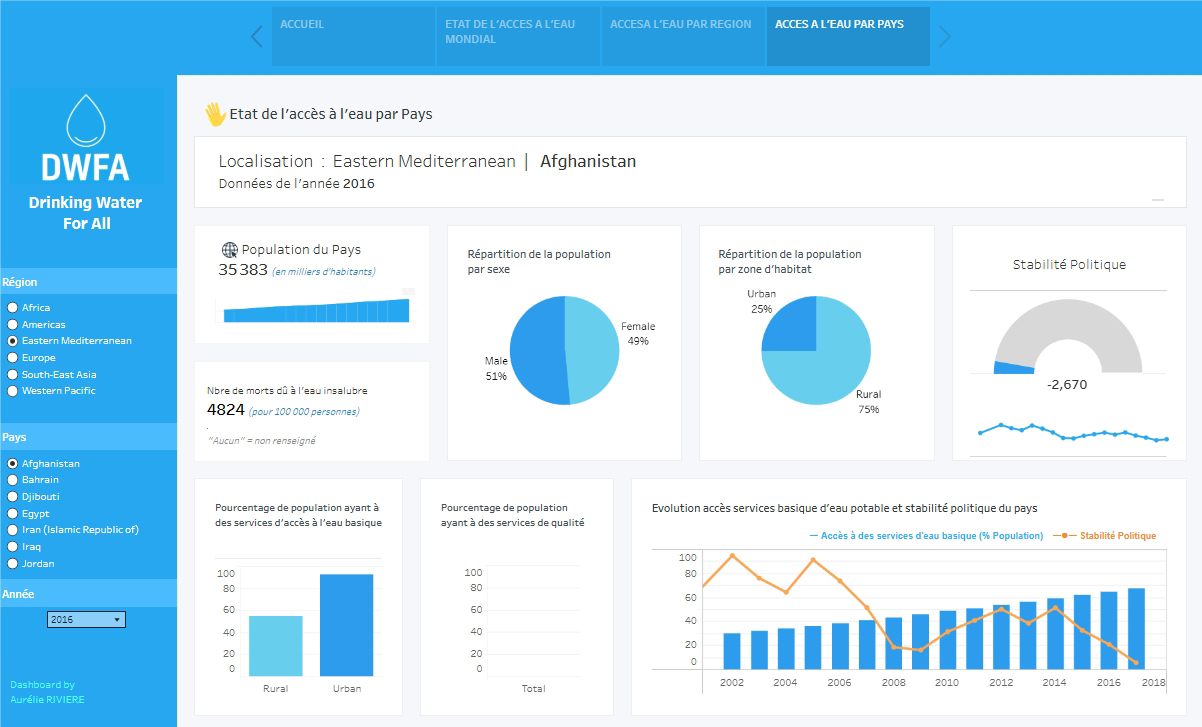

Layout of this report page (visuals, bound fields, positions):
{"tool":"tableau","page":{"name":"VuePays","canvas":[1650,1000],"ordinal":3},"visuals":[{"type":"image","param":"C:/Users/Aurelie 01Formatic/Desktop/logo.png","box":[0,10,250,128]},{"type":"image","param":"C:/Users/Aurelie 01Formatic/Dropbox/Formation Data Analyst/PROJET 10 - Faites un","box":[281,31,32,33]},{"type":"text","box":[313,31,1306,33]},{"type":"worksheet","title":"InfosPays","mark":"Automatic","box":[292,79,1316,76]},{"type":"text","box":[0,138,250,70]},{"type":"worksheet","title":"PopPays","mark":"Automatic","box":[292,201,283,81]},{"type":"text","box":[637,201,283,56]},{"type":"text","box":[980,201,284,56]},{"type":"text","box":[1326,201,282,49]},{"type":"image","param":"C:/Users/Aurelie 01Formatic/Dropbox/Formation Data Analyst/PROJET 10 - Faites un","box":[304,207,30,34]},{"type":"worksheet","title":"FiltresRegion","mark":"Automatic","box":[0,208,250,42]},{"type":"text","box":[0,250,250,44]},{"type":"blank","box":[1326,250,282,160]},{"type":"blank","box":[637,257,283,30]},{"type":"blank","box":[980,257,284,30]},{"type":"worksheet","title":"GaugePolitic","mark":"Pie","rows":["Calculation_1029635510528196614","Calculation_1029635510528221192"],"box":[1354,262,224,209]},{"type":"worksheet","title":"EvoPopPays","mark":"Area","rows":["Population"],"cols":["Year"],"box":[292,282,283,64]},{"type":"worksheet","title":"RepHF","mark":"Pie","box":[637,287,283,177]},{"type":"worksheet","title":"RepUR","mark":"Pie","box":[980,287,284,168]},{"type":"filter","title":"FiltresRegion","param":"[federated.0qpxvex1ik4esz1cevycs06ncdh8].[none:REGION (DISPLAY):nk]","box":[0,294,250,162]},{"type":"worksheet","title":"StabPolitique","mark":"Automatic","box":[1398,360,136,38]},{"type":"worksheet","title":"NbreMortPays","mark":"Automatic","box":[286,402,295,91]},{"type":"worksheet","title":"EvolStabPolitique","mark":"Automatic","rows":["Political_Stability"],"cols":["Year (PoliticalStability.csv)"],"box":[1328,411,282,70]},{"type":"worksheet","title":"FiltrePays","mark":"Automatic","box":[0,456,250,28]},{"type":"text","box":[0,484,250,45]},{"type":"filter","title":"FiltrePays","param":"[federated.0qpxvex1ik4esz1cevycs06ncdh8].[none:COUNTRY (DISPLAY):nk]","box":[0,529,250,214]},{"type":"text","box":[292,549,227,70]},{"type":"text","box":[581,549,193,78]},{"type":"text","box":[836,549,772,32]},{"type":"text","box":[836,581,772,31]},{"type":"worksheet","title":"EvolStabPolitiqueAccesEau","mark":"Bar","rows":["Population using at least basic drinking-water services (%)","Political_Stability"],"cols":["Year (BasicAndSafelyManagedDrinkingWaterServices.csv)"],"box":[836,612,772,245]},{"type":"blank","box":[292,619,227,9]},{"type":"worksheet","title":"AccèsSafeR/U","mark":"Bar","rows":["Population using safely managed drinking-water services (%)"],"cols":["Granularity (BasicAndSafelyManagedDrinkingWaterServices.csv)"],"box":[581,627,193,230]},{"type":"worksheet","title":"AccèsBasicR/U (2)","mark":"Bar","rows":["Population using at least basic drinking-water services (%)"],"cols":["Granularity (BasicAndSafelyManagedDrinkingWaterServices.csv)"],"box":[292,628,227,229]},{"type":"blank","box":[0,743,250,38]},{"type":"text","box":[0,781,250,47]},{"type":"filter","title":"FiltreAn","param":"[federated.0qpxvex1ik4esz1cevycs06ncdh8].[yr:Year:ok]","box":[0,828,250,49]},{"type":"worksheet","title":"FiltreAn","mark":"Automatic","box":[0,877,250,45]},{"type":"text","box":[0,922,250,58]}]}

Visuals, with their boxes in screenshot pixels (x1, y1, x2, y2), scaled from the page's 1650x1000 canvas onto the 1202x727 screenshot:
image: detection(0, 7, 182, 100)
image: detection(205, 23, 228, 47)
text: detection(228, 23, 1179, 47)
"InfosPays" worksheet: detection(213, 57, 1171, 113)
text: detection(0, 100, 182, 151)
"PopPays" worksheet: detection(213, 146, 419, 205)
text: detection(464, 146, 670, 187)
text: detection(714, 146, 921, 187)
text: detection(966, 146, 1171, 182)
image: detection(221, 150, 243, 175)
"FiltresRegion" worksheet: detection(0, 151, 182, 182)
text: detection(0, 182, 182, 214)
blank: detection(966, 182, 1171, 298)
blank: detection(464, 187, 670, 209)
blank: detection(714, 187, 921, 209)
"GaugePolitic" worksheet (Pie marks): detection(986, 190, 1150, 342)
"EvoPopPays" worksheet (Area marks): detection(213, 205, 419, 252)
"RepHF" worksheet (Pie marks): detection(464, 209, 670, 337)
"RepUR" worksheet (Pie marks): detection(714, 209, 921, 331)
"FiltresRegion" filter: detection(0, 214, 182, 332)
"StabPolitique" worksheet: detection(1018, 262, 1117, 289)
"NbreMortPays" worksheet: detection(208, 292, 423, 358)
"EvolStabPolitique" worksheet: detection(967, 299, 1173, 350)
"FiltrePays" worksheet: detection(0, 332, 182, 352)
text: detection(0, 352, 182, 385)
"FiltrePays" filter: detection(0, 385, 182, 540)
text: detection(213, 399, 378, 450)
text: detection(423, 399, 564, 456)
text: detection(609, 399, 1171, 422)
text: detection(609, 422, 1171, 445)
"EvolStabPolitiqueAccesEau" worksheet (Bar marks): detection(609, 445, 1171, 623)
blank: detection(213, 450, 378, 457)
"AccèsSafeR/U" worksheet (Bar marks): detection(423, 456, 564, 623)
"AccèsBasicR/U (2)" worksheet (Bar marks): detection(213, 457, 378, 623)
blank: detection(0, 540, 182, 568)
text: detection(0, 568, 182, 602)
"FiltreAn" filter: detection(0, 602, 182, 638)
"FiltreAn" worksheet: detection(0, 638, 182, 670)
text: detection(0, 670, 182, 712)
